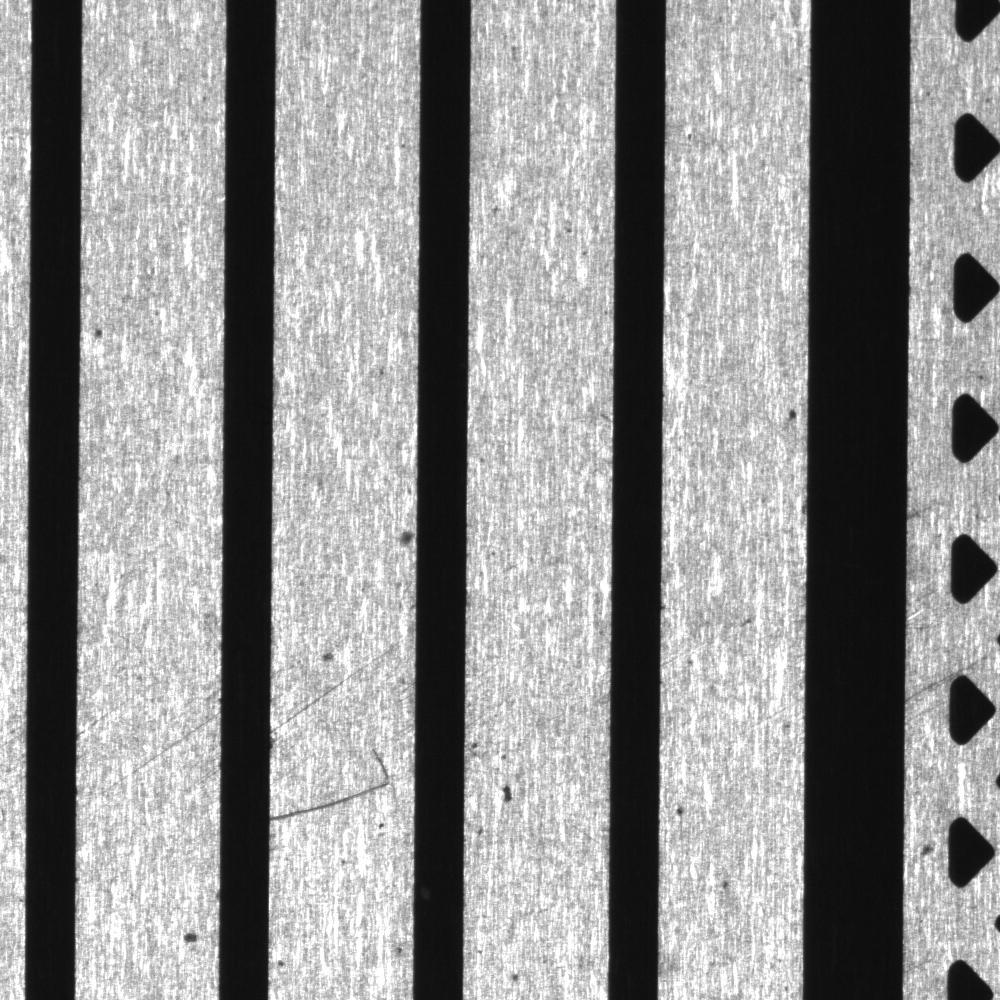Etching: (463, 730, 520, 770), (388, 505, 418, 565), (173, 916, 211, 960), (491, 776, 522, 816)
Pinhole: (780, 396, 808, 435), (665, 795, 694, 828), (85, 313, 110, 348), (272, 945, 293, 980), (505, 960, 525, 990)
Scar: (80, 709, 219, 812), (272, 635, 399, 743), (270, 747, 410, 830), (733, 693, 806, 735), (911, 657, 981, 700), (660, 632, 723, 671), (506, 289, 592, 315)
